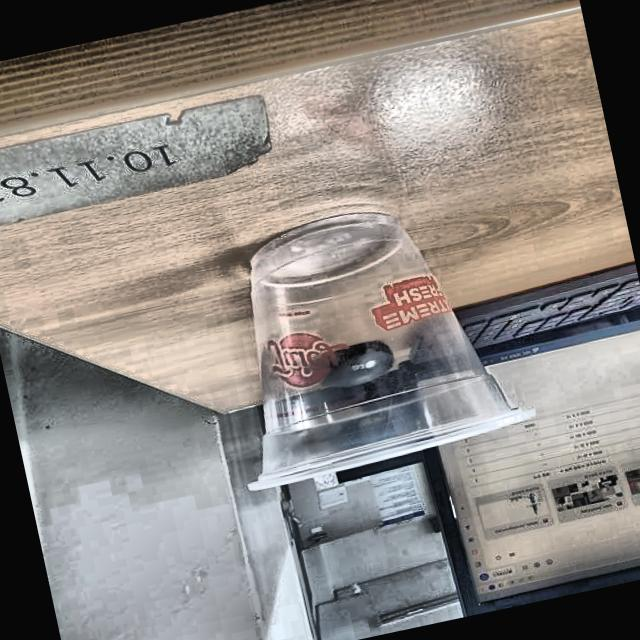plastic cup: (195, 184, 544, 493)
